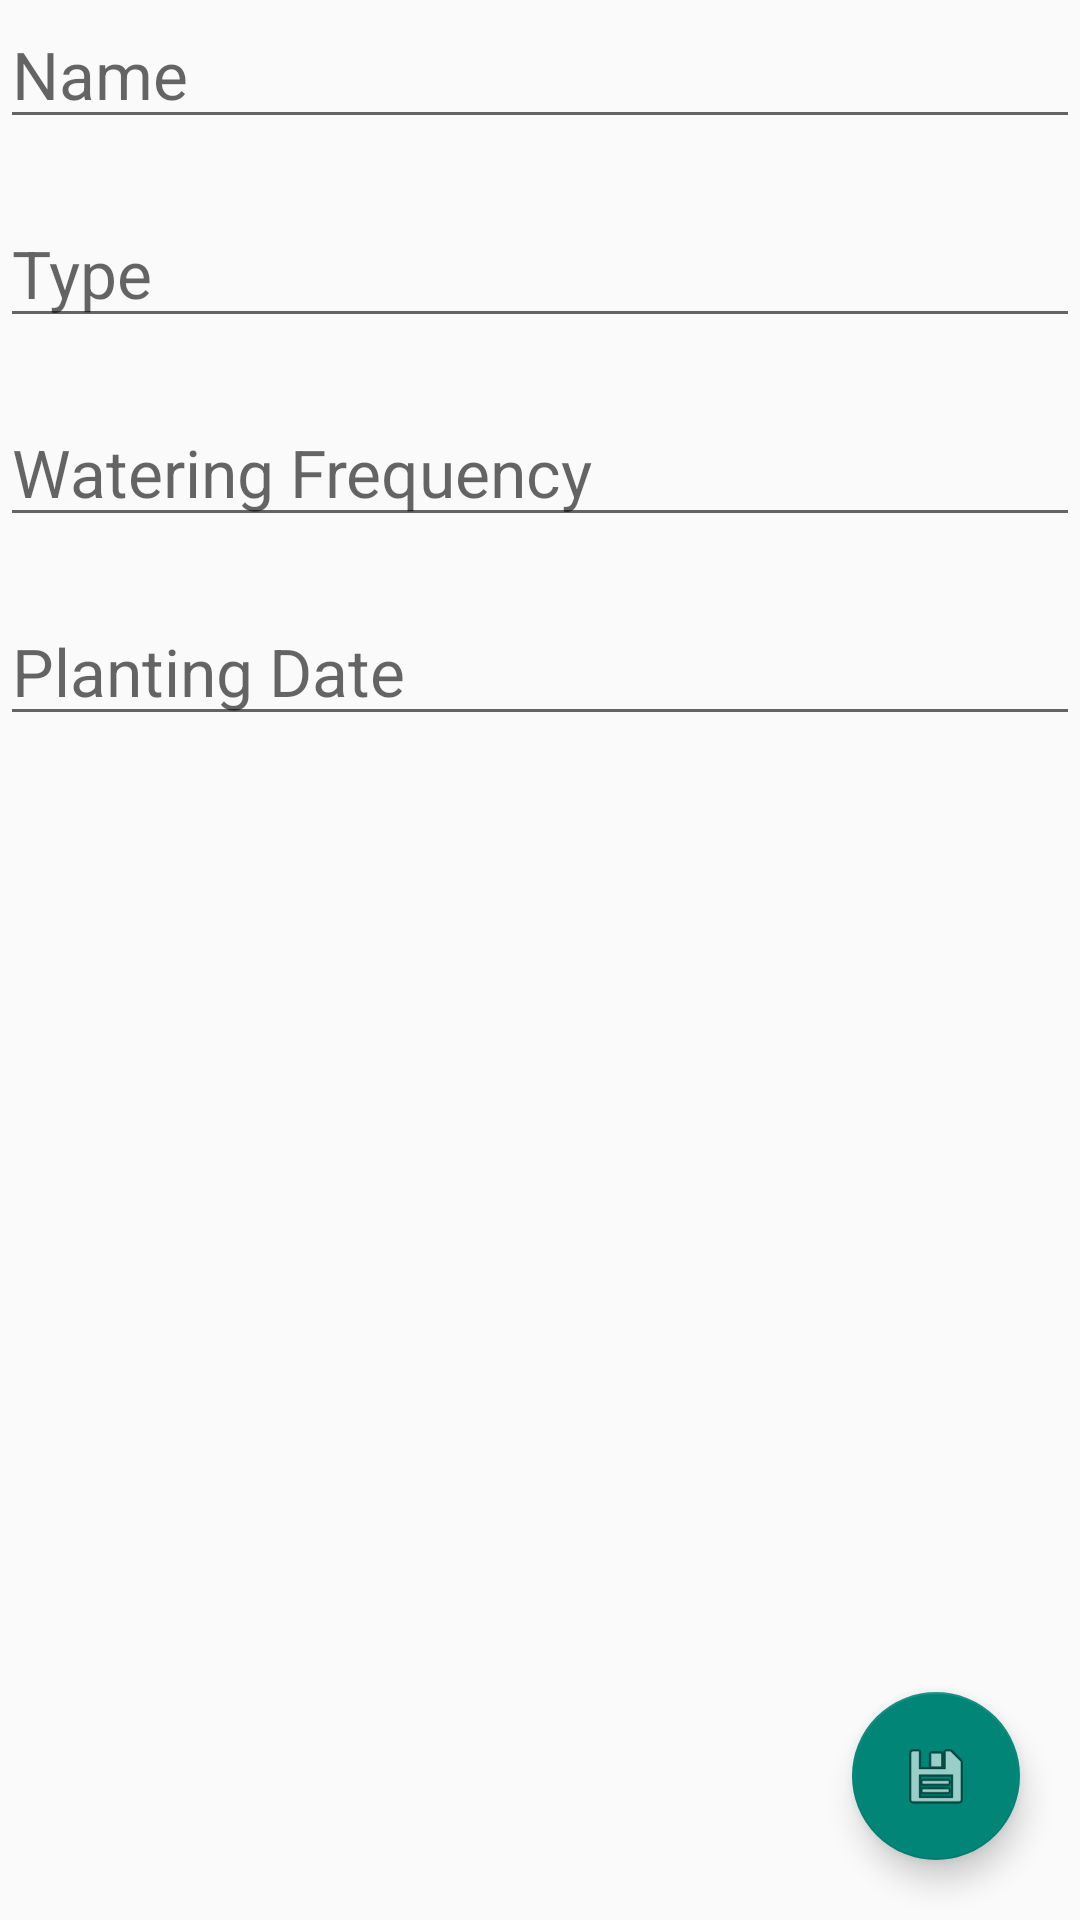

Screen size 1080 x 1920. Icon name, then its box in pixels as {"x1": x1, "y1": y1, "x2": x2, "y2": y2}:
save: {"x1": 852, "y1": 1692, "x2": 1020, "y2": 1860}
